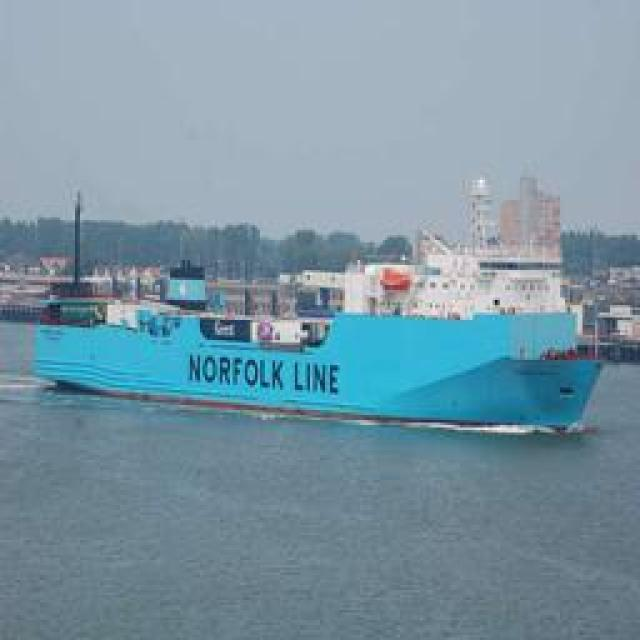ship2: (33, 178, 604, 426)
